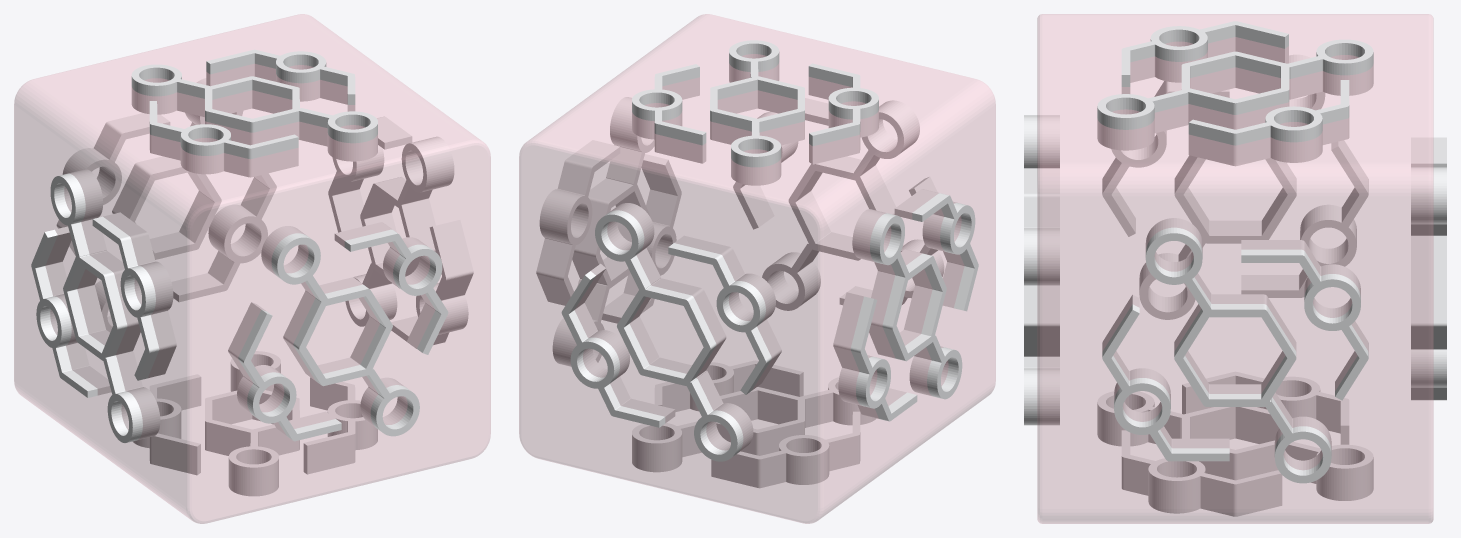
The model's file is eventbridge.glb.
3 renders of one model, left to right at view 1: azimuth 30°, elevation 25°; view 2: azimuth 150°, elevation 25°; view 3: azimuth 270°, elevation 25°, orthographic. The views are drawn at different scales.
Visible parts, largest first — view 1: Glass, Glyph Left, Glyph Top, Glyph Front, Glyph Right, Glyph Bottom, Glyph Back; view 2: Glass, Glyph Back, Glyph Left, Glyph Top, Glyph Right, Glyph Bottom, Glyph Front; view 3: Glass, Glyph Top, Glyph Right, Glyph Bottom, Glyph Left, Glyph Front, Glyph Back.
Part boxes in pixels (left/top/right/bottom): Glass: left=14, top=14, right=490, bottom=523; Glyph Left: left=31, top=169, right=176, bottom=442; Glyph Top: left=131, top=49, right=377, bottom=177; Glyph Front: left=228, top=222, right=448, bottom=441; Glyph Right: left=328, top=116, right=473, bottom=344; Glyph Bottom: left=133, top=351, right=377, bottom=496; Glyph Back: left=56, top=78, right=276, bottom=331; Glass: left=519, top=14, right=995, bottom=523; Glyph Back: left=561, top=203, right=781, bottom=461; Glyph Left: left=833, top=189, right=978, bottom=421; Glyph Top: left=632, top=40, right=878, bottom=185; Glyph Right: left=536, top=97, right=681, bottom=366; Glyph Bottom: left=632, top=360, right=876, bottom=488; Glyph Front: left=733, top=98, right=944, bottom=310; Glass: left=1037, top=14, right=1433, bottom=523; Glyph Top: left=1097, top=21, right=1373, bottom=166; Glyph Right: left=1102, top=218, right=1368, bottom=483; Glyph Bottom: left=1097, top=371, right=1373, bottom=516; Glyph Left: left=1102, top=54, right=1368, bottom=319; Glyph Front: left=1024, top=115, right=1059, bottom=425; Glyph Back: left=1411, top=137, right=1446, bottom=400.
Size of the model in its own units: 2.13 by 2.13 by 2.13.
